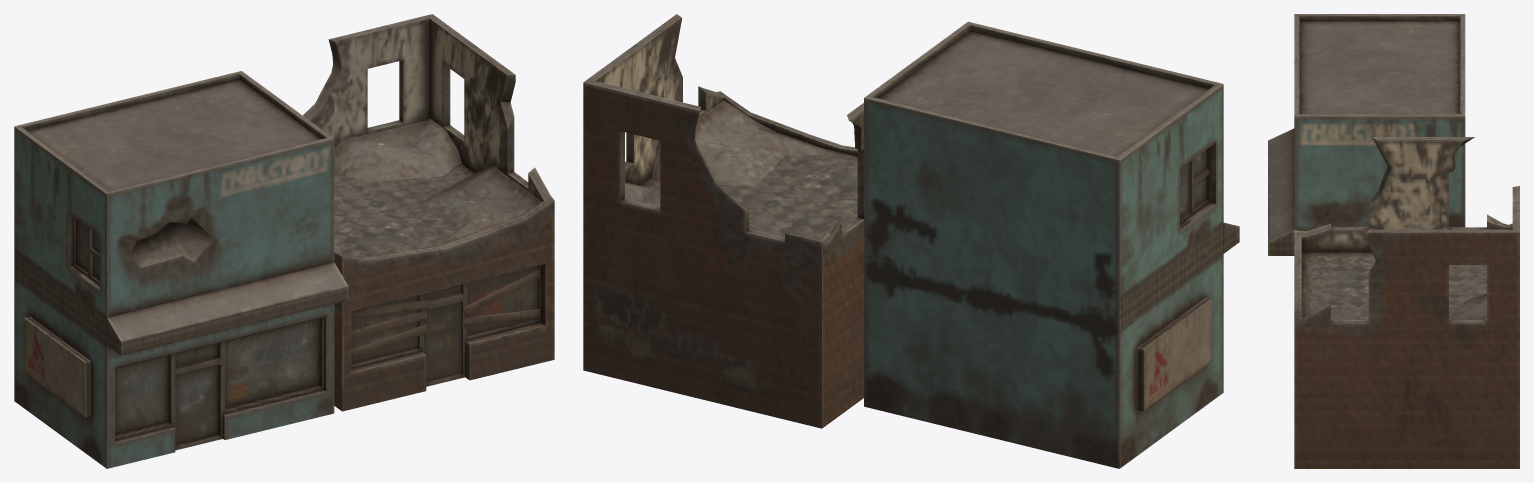
File: buildings.FBX
3 views of the same model, side by side, from view 1: azimuth 30°, elevation 25°; view 2: azimuth 150°, elevation 25°; view 3: azimuth 270°, elevation 25° (orthographic). The views are drawn at different scales.
Parts seen in each view (by area): view 1: Box002, Box001; view 2: Box002, Box001; view 3: Box001, Box002.
Part boxes in pixels (x1=…): Box002: x1=14, y1=71, x2=348, y2=468; Box001: x1=303, y1=14, x2=554, y2=411; Box002: x1=864, y1=21, x2=1239, y2=468; Box001: x1=583, y1=14, x2=863, y2=428; Box001: x1=1294, y1=137, x2=1519, y2=468; Box002: x1=1268, y1=14, x2=1465, y2=255.
Bounding box in the file's own units: 389 × 225 × 203.
